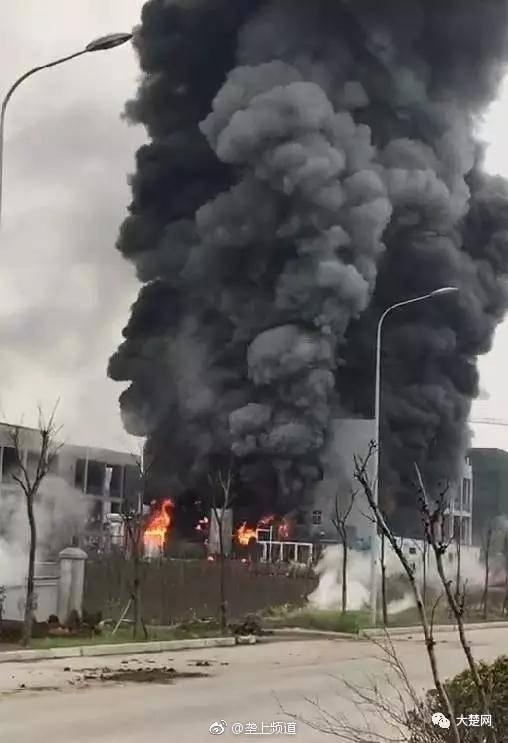fire: (234, 513, 289, 545), (142, 496, 174, 547)
